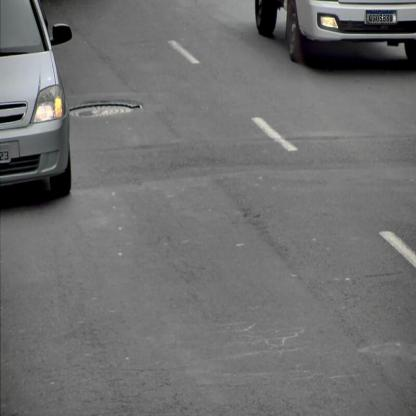PlacaM: (366, 10, 396, 24)
